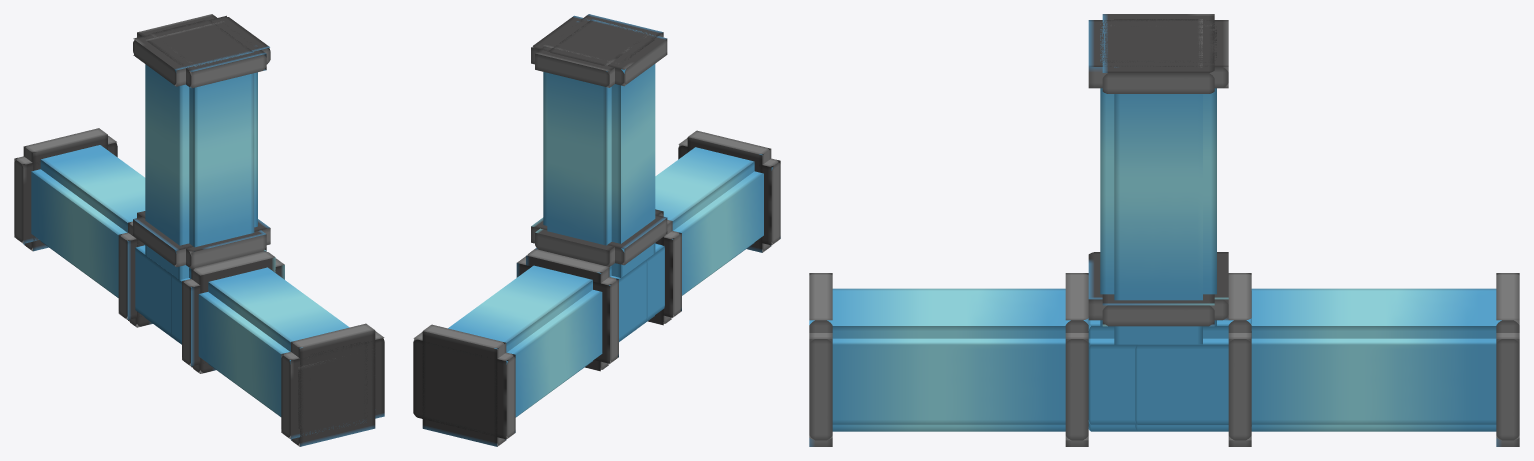
3 renders of one model, left to right at view 1: azimuth 30°, elevation 25°; view 2: azimuth 150°, elevation 25°; view 3: azimuth 270°, elevation 25°, orthographic. The views are drawn at different scales.
Visible parts, largest first — view 1: cube_1, cube, cube_6, cube_11, cube_16, cube_10, cube_17, cube_4, cube_7, cube_5, cube_21, cube_3 (+8 smaller); view 2: cube_1, cube, cube_22, cube_16, cube_17, cube_11, cube_23, cube_10, cube_5, cube_4, cube_21, cube_3 (+8 smaller); view 3: cube, cube_16, cube_11, cube_17, cube_10, cube_4, cube_21, cube_1, cube_5, cube_12, cube_2, cube_9 (+11 smaller).
Part boxes in pixels (bbox=[...]): cube_1: bbox=[149, 20, 254, 251]; cube: bbox=[145, 21, 257, 253]; cube_6: bbox=[291, 323, 375, 446]; cube_11: bbox=[191, 287, 375, 428]; cube_16: bbox=[31, 169, 128, 297]; cube_10: bbox=[208, 267, 367, 433]; cube_17: bbox=[40, 145, 145, 297]; cube_4: bbox=[133, 15, 270, 86]; cube_7: bbox=[281, 331, 384, 439]; cube_5: bbox=[137, 14, 266, 88]; cube_21: bbox=[135, 245, 171, 335]; cube_3: bbox=[137, 211, 266, 268]; cube_1: bbox=[547, 19, 649, 245]; cube: bbox=[543, 21, 655, 252]; cube_22: bbox=[422, 324, 506, 446]; cube_16: bbox=[506, 290, 602, 416]; cube_17: bbox=[448, 265, 592, 417]; cube_11: bbox=[664, 167, 772, 294]; cube_23: bbox=[413, 332, 515, 439]; cube_10: bbox=[655, 147, 762, 295]; cube_5: bbox=[535, 14, 663, 87]; cube_4: bbox=[531, 15, 667, 86]; cube_21: bbox=[609, 260, 647, 341]; cube_3: bbox=[535, 209, 663, 266]; cube: bbox=[1114, 19, 1202, 300]; cube_16: bbox=[1251, 338, 1496, 424]; cube_11: bbox=[832, 338, 1065, 424]; cube_17: bbox=[1251, 288, 1501, 431]; cube_10: bbox=[809, 288, 1088, 431]; cube_4: bbox=[1102, 14, 1214, 93]; cube_21: bbox=[1135, 338, 1228, 424]; cube_1: bbox=[1100, 25, 1216, 294]; cube_5: bbox=[1088, 20, 1228, 88]; cube_12: bbox=[1088, 324, 1136, 424]; cube_2: bbox=[1102, 294, 1214, 326]; cube_9: bbox=[1065, 333, 1088, 440].
Bounding box in the file's own units: 18.75 × 56.25 × 95.31.
1 material, 1 textured.
